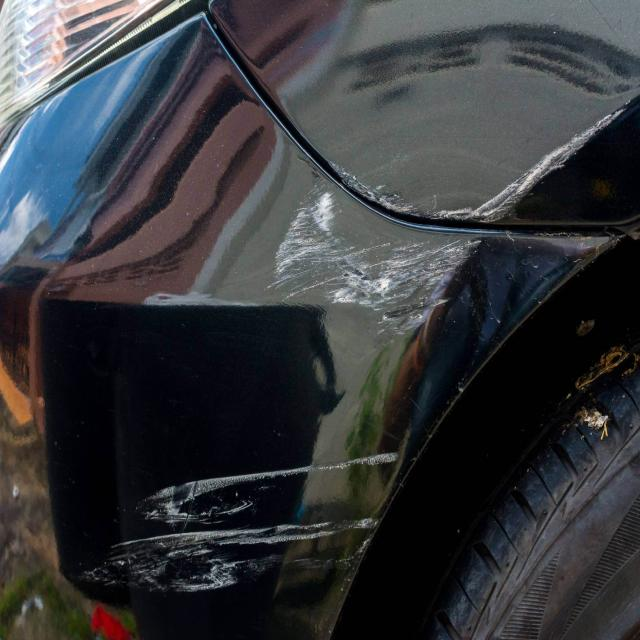scratch: (263, 90, 635, 345), (79, 448, 402, 592)
